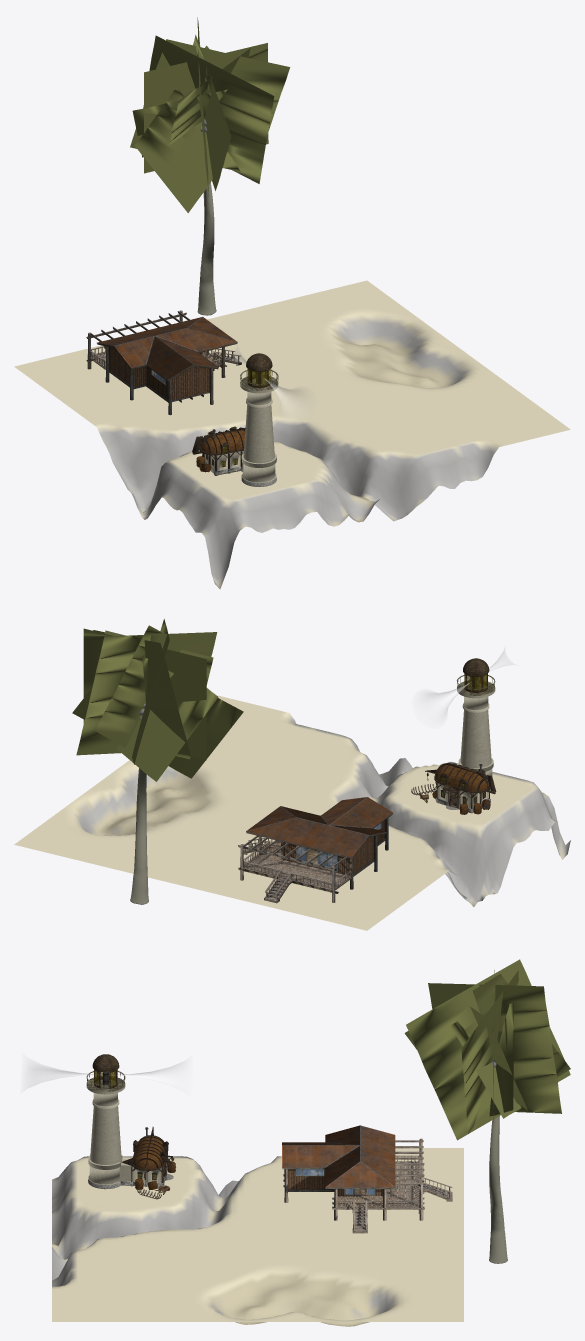
The picture shows the model from 3 angles, top to bottom: view 1: azimuth 30°, elevation 25°; view 2: azimuth 150°, elevation 25°; view 3: azimuth 270°, elevation 25°; orthographic projection.
Visible parts, largest first — view 1: Terrain 0,0, top palm tree, Lighthouse 1, roof#2, walls#1, roof, Palm tree 01, Light house light; view 2: Terrain 0,0, top palm tree, Lighthouse 1, roof#2, Beach Hut Sweet, roof, Palm tree 01, walls#1, Light house light; view 3: Terrain 0,0, top palm tree, Lighthouse 1, roof#2, Beach Hut Sweet, roof, Palm tree 01, Light house light, walls#1.
Boxes of the visible parts, x1,y1,x2,y2 form: Terrain 0,0: (14,280,570,589); top palm tree: (130,17,290,212); Lighthouse 1: (192,353,278,486); roof#2: (97,316,237,381); walls#1: (109,347,210,400); roof: (86,310,226,415); Palm tree 01: (197,182,216,315); Light house light: (229,346,305,414); Terrain 0,0: (14,695,570,930); top palm tree: (72,619,243,781); Lighthouse 1: (411,658,496,814); roof#2: (246,797,392,858); Beach Hut Sweet: (243,838,352,903); roof: (238,811,388,902); Palm tree 01: (130,768,148,904); walls#1: (284,820,385,875); Light house light: (424,649,514,717); Terrain 0,0: (52,1148,463,1326); top palm tree: (404,959,570,1140); Lighthouse 1: (86,1054,175,1199); roof#2: (282,1125,395,1188); Beach Hut Sweet: (337,1155,452,1233); roof: (283,1138,424,1220); Palm tree 01: (489,1116,507,1263); Light house light: (31,1060,181,1089); walls#1: (288,1169,382,1195).
Bounding box in the file's own units: 64 × 60.23 × 86.55.
60 materials, 59 textured.
